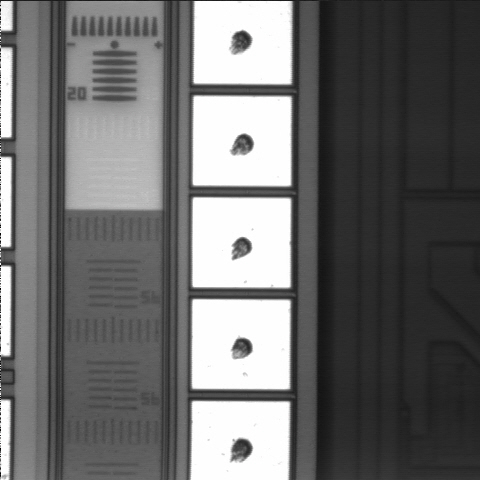pad: (192, 198, 291, 288), (193, 96, 291, 186), (192, 299, 290, 389)
